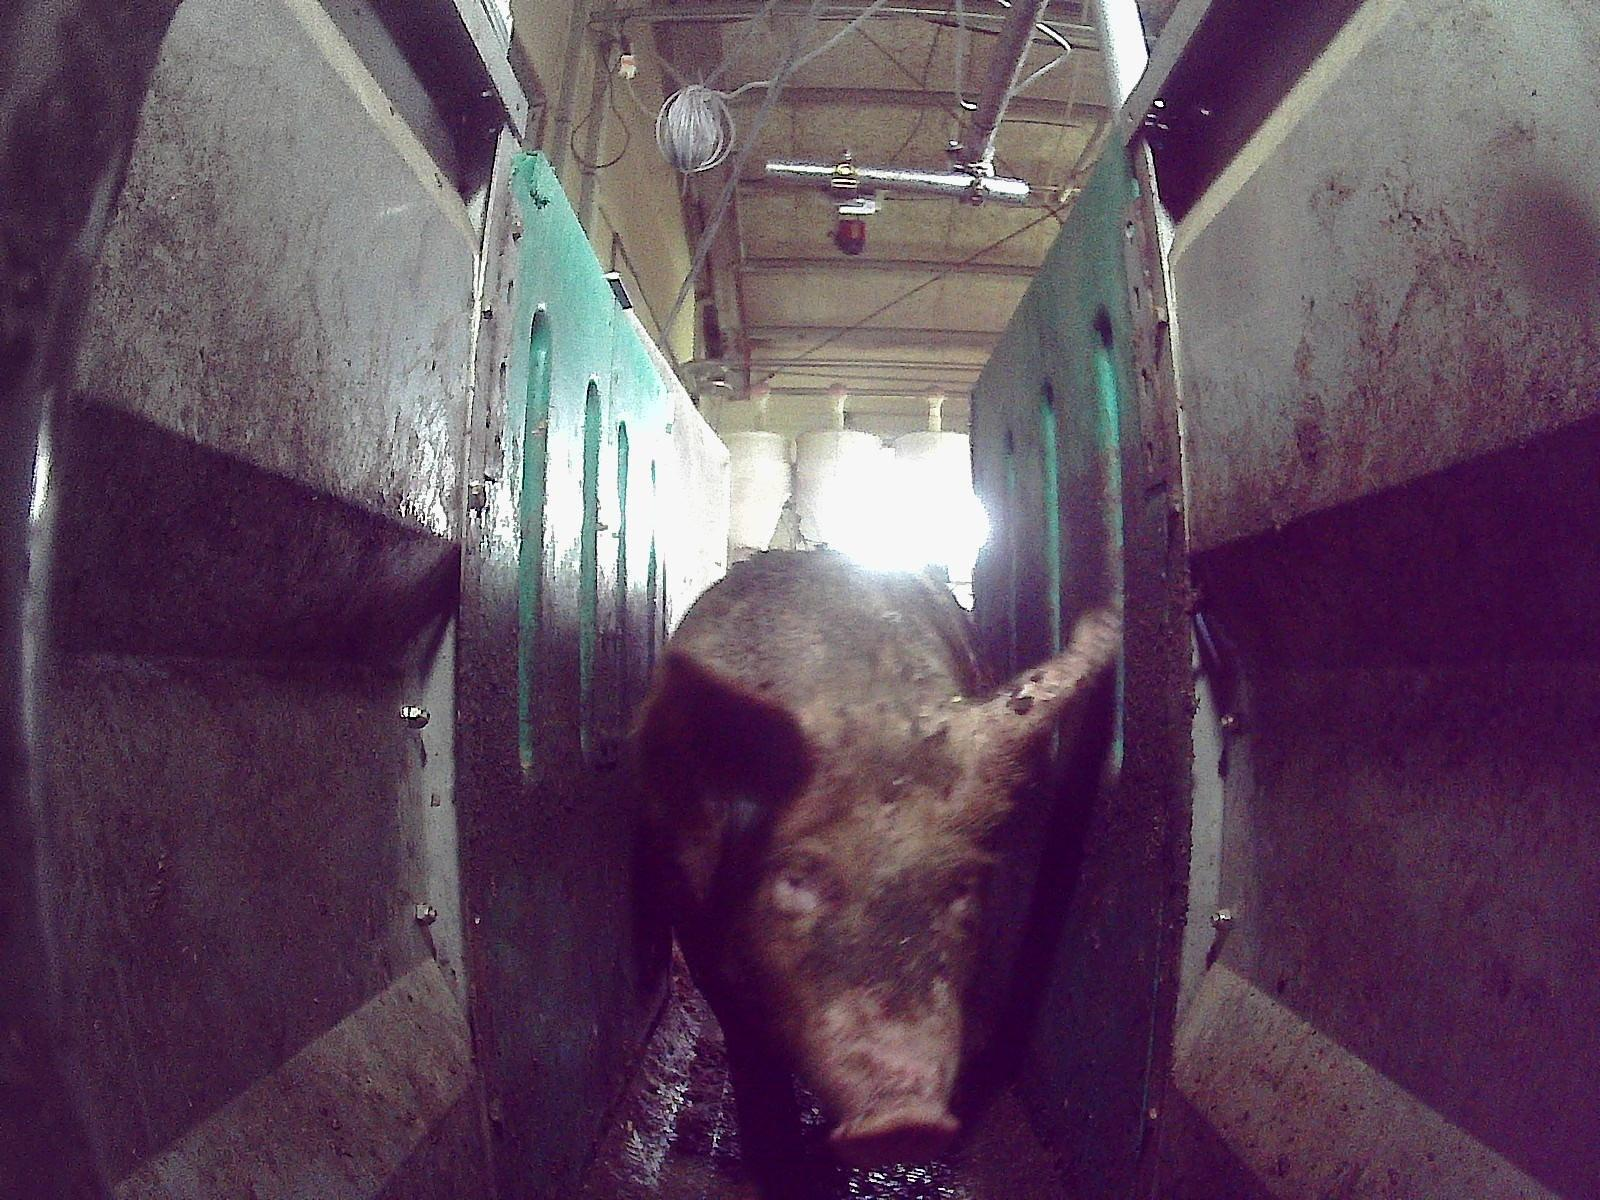Face: (729, 738, 995, 1165)
